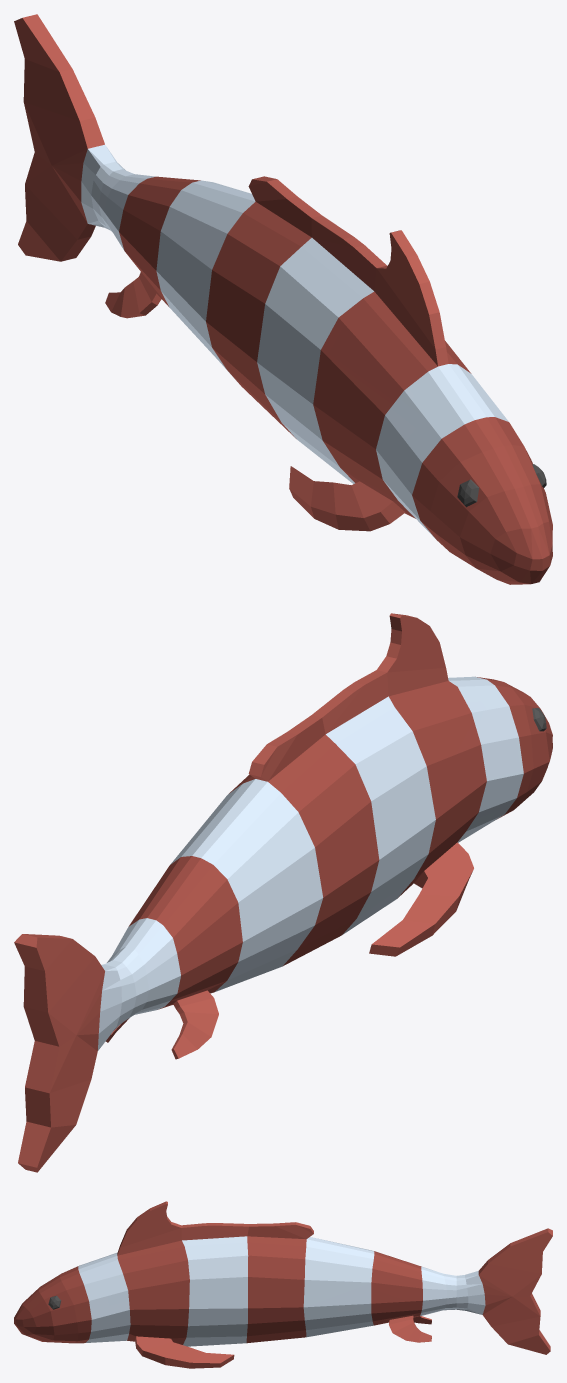
Rendered from fish04.fbx.
The picture shows the model from 3 angles, top to bottom: view 1: azimuth 30°, elevation 25°; view 2: azimuth 150°, elevation 25°; view 3: azimuth 270°, elevation 25°; orthographic projection. The views are drawn at different scales.
Visible parts, largest first — view 1: fish04; view 2: fish04; view 3: fish04.
Boxes of the visible parts, x1,y1,x2,y2 form: fish04: [14, 14, 552, 584]; fish04: [14, 613, 552, 1172]; fish04: [14, 1201, 552, 1368].
Bounding box in the file's own units: 14.87 × 107 × 33.23.
